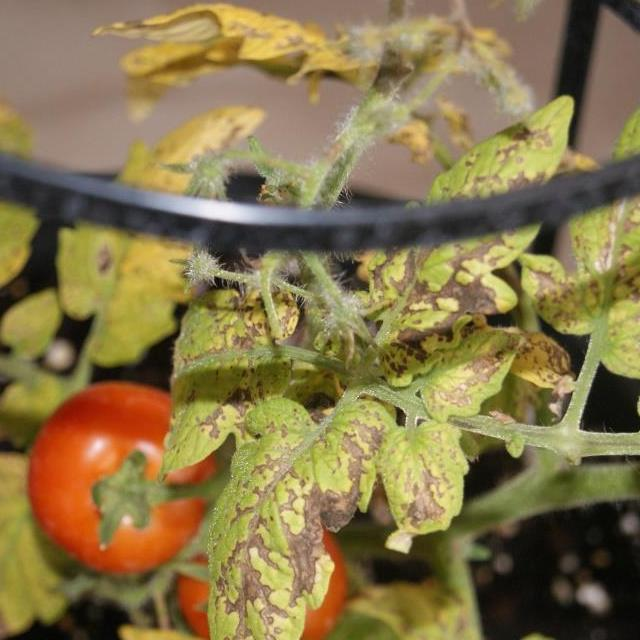Tomato leaf bacterial spot: (371, 80, 595, 348), (199, 373, 402, 640), (530, 66, 640, 400), (162, 280, 291, 474), (382, 412, 473, 553)
